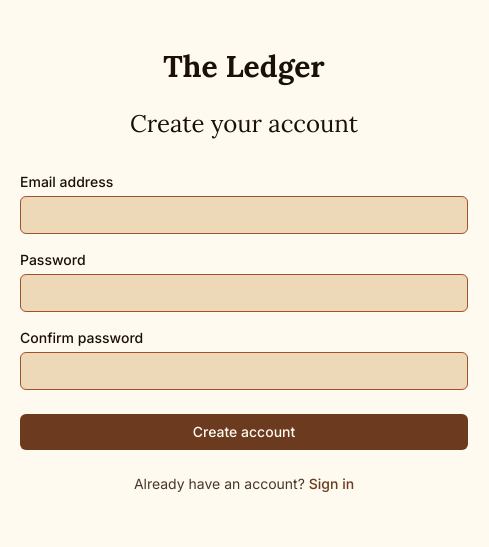
Test: RegisterPage › should validate password length
This screenshot has width=489, height=547.
Type "test@example.com" into the field labelled "Email address".
click(244, 215); type("test@example.com")  # box [20,196,468,234]
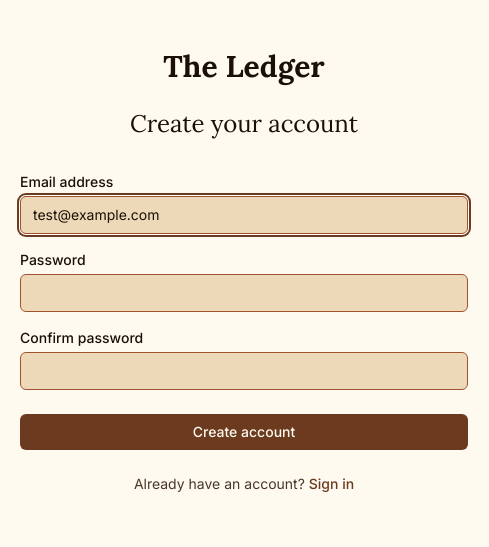
Type "12345" into the password field labelled "Password".
click(244, 293); type("12345")  # box [20,274,468,312]
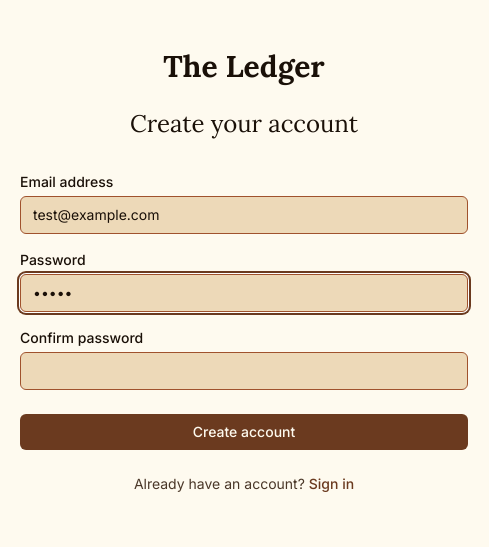
Type "12345" into the password field labelled "Confirm password".
click(244, 371); type("12345")  # box [20,352,468,390]
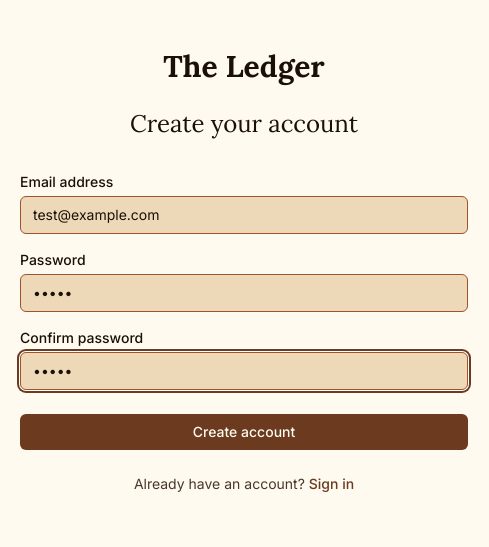
Click the button "Create account".
click(244, 432)  # box [20,414,468,450]
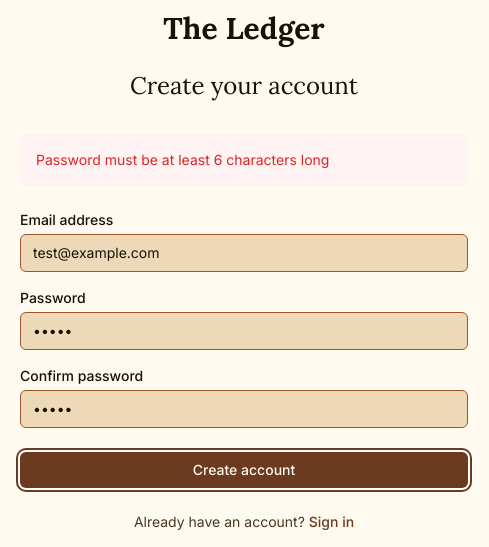
expect the text "Password must be at least 6 characters long" is shown: met, box [20,134,468,186]
